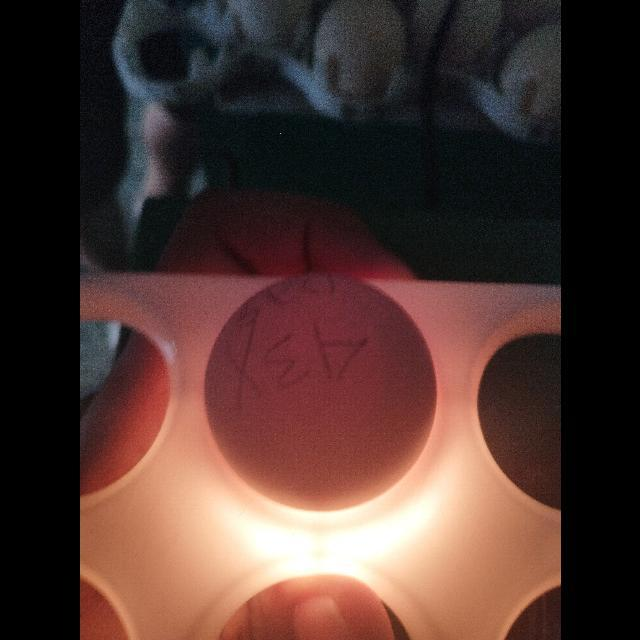Fertile: (201, 264, 443, 520)
